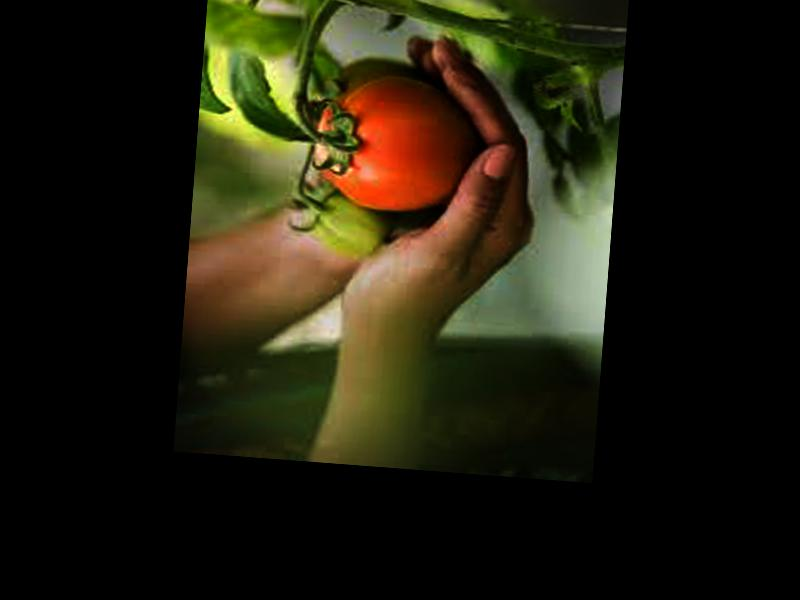Tomato: (312, 72, 475, 216)
